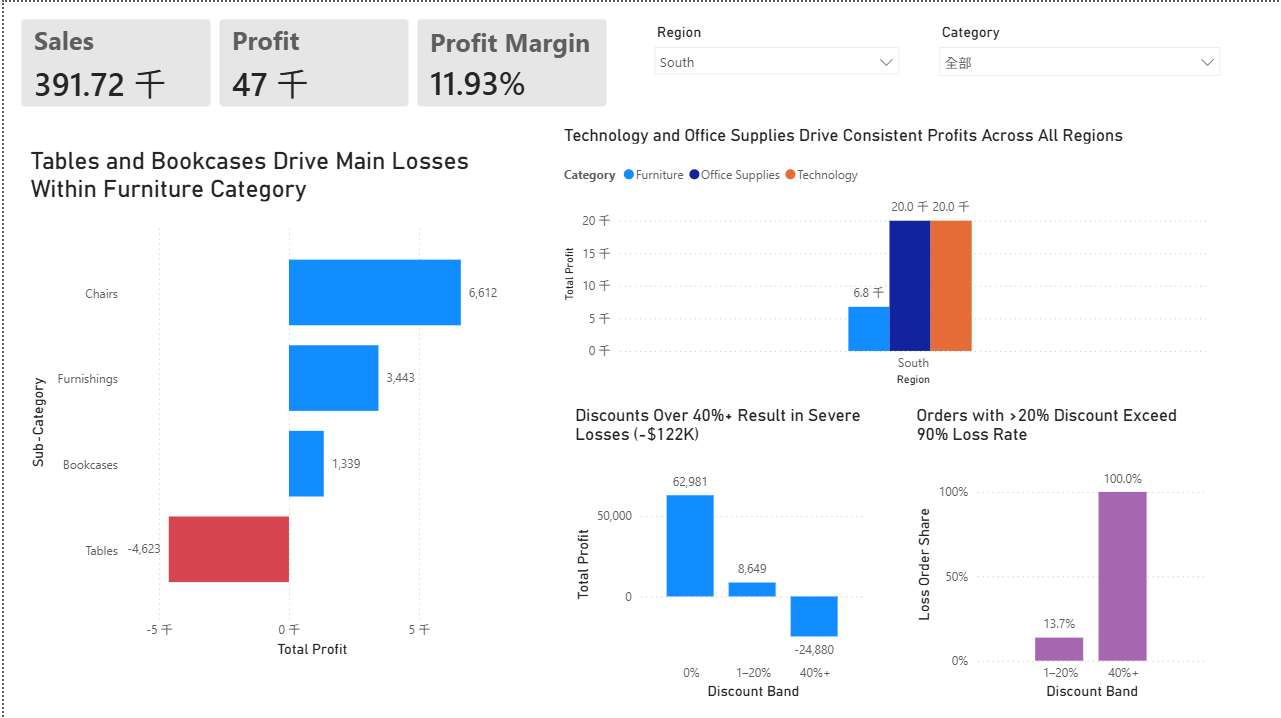

The dashboard page shown, as its layout file describes it:
{"tool":"powerbi","page":{"name":"第 2 頁","canvas":[1280,720],"ordinal":0},"visuals":[{"type":"columnChart","title":"Discounts Over 40%+ Result in Severe Losses (-$122K)","fields":{"Category":["SampleSuperstore.Discount Band"],"Y":["Sum(SampleSuperstore.Profit)"]},"box":[532.5,402.5,300,300],"z":0},{"type":"columnChart","title":"Orders with >20% Discount Exceed 90% Loss Rate","fields":{"Category":["SampleSuperstore.Discount Band"],"Y":["SampleSuperstore.Loss Order Share"]},"box":[881.2,402.5,300,300],"z":1000},{"type":"cardVisual","fields":{"Data":["Sum(SampleSuperstore.Sales)","Sum(SampleSuperstore.Profit)","SampleSuperstore.Profit Margin"]},"box":[0,0,620,122.5],"z":2000},{"type":"clusteredColumnChart","title":"Technology and Office Supplies Drive Consistent Profits Across All Regions","fields":{"Category":["SampleSuperstore.Region"],"Y":["Sum(SampleSuperstore.Profit)"],"Series":["SampleSuperstore.Category"]},"box":[555,122.5,652.5,266.2],"z":3000},{"type":"barChart","title":"Tables and Bookcases Drive Main Losses Within Furniture Category","fields":{"Category":["SampleSuperstore.Sub-Category"],"Y":["Sum(SampleSuperstore.Profit)"]},"box":[21.2,145,488.8,515],"z":3001},{"type":"slicer","fields":{"Values":["SampleSuperstore.Region"]},"box":[640,16.2,265,90],"z":3002},{"type":"slicer","fields":{"Values":["SampleSuperstore.Category"]},"box":[925,16.2,301.2,77.5],"z":3003}]}

Visuals, with their boxes in screenshot pixels (x1, y1, x2, y2), scaled from the page's 1280x720 canvas onto the 1281x718 screenshot:
"Discounts Over 40%+ Result in Severe Losses (-$122K)" columnChart: (533, 401, 833, 701)
"Orders with >20% Discount Exceed 90% Loss Rate" columnChart: (882, 401, 1182, 701)
cardVisual - Sum(SampleSuperstore.Sales) x Sum(SampleSuperstore.Profit): (0, 0, 620, 122)
"Technology and Office Supplies Drive Consistent Profits Across All Regions" clusteredColumnChart: (555, 122, 1208, 388)
"Tables and Bookcases Drive Main Losses Within Furniture Category" barChart: (21, 145, 510, 658)
slicer - SampleSuperstore.Region: (640, 16, 906, 106)
slicer - SampleSuperstore.Category: (926, 16, 1227, 93)
